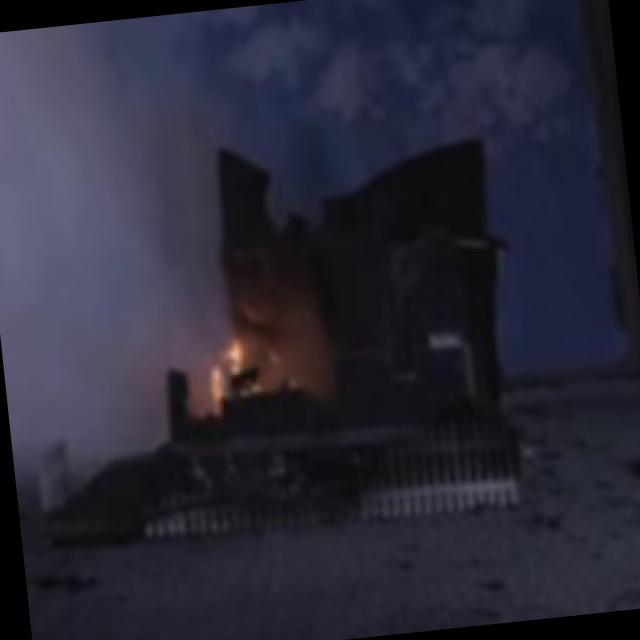fire: (183, 306, 273, 416)
smoke: (0, 10, 234, 341)
